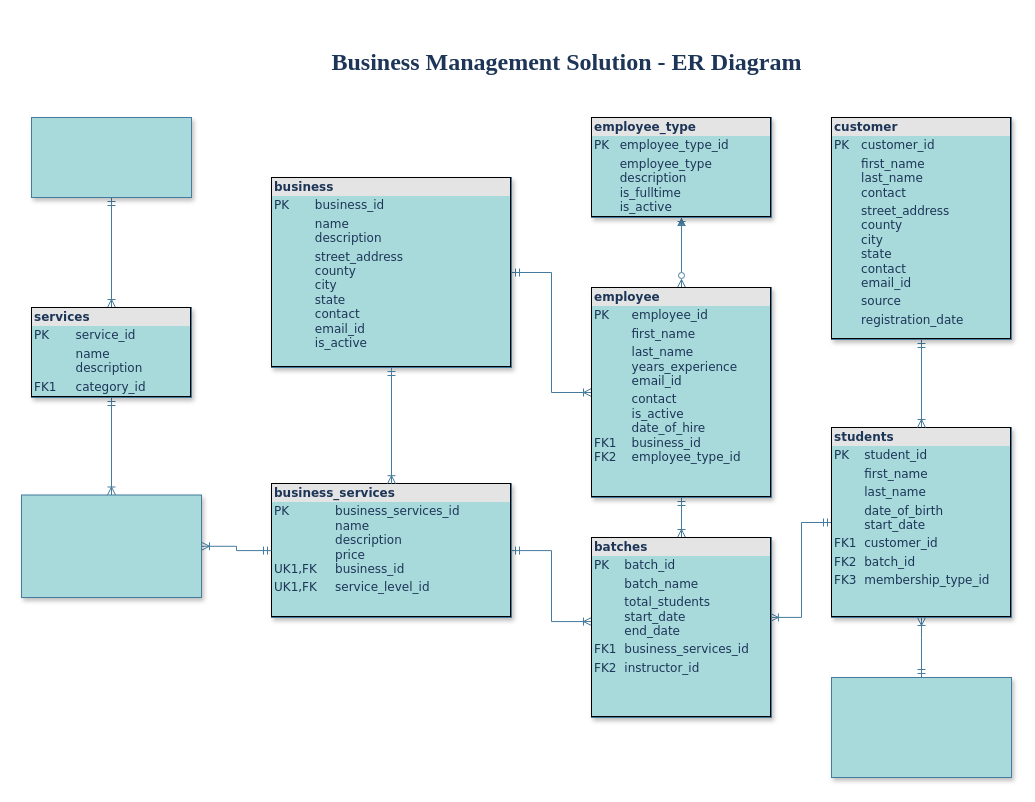
Image size: 1035x802. Some labels were removed from this diagram. The centre of each missing label's shape, as x and y in pixels:
membership_type PK membership_type_id membership_name description discount_per: the point at 922,728
service_category PK category_id name description: the point at 112,158
service_levels PK service_level_id FK name description service_id: the point at 112,547
